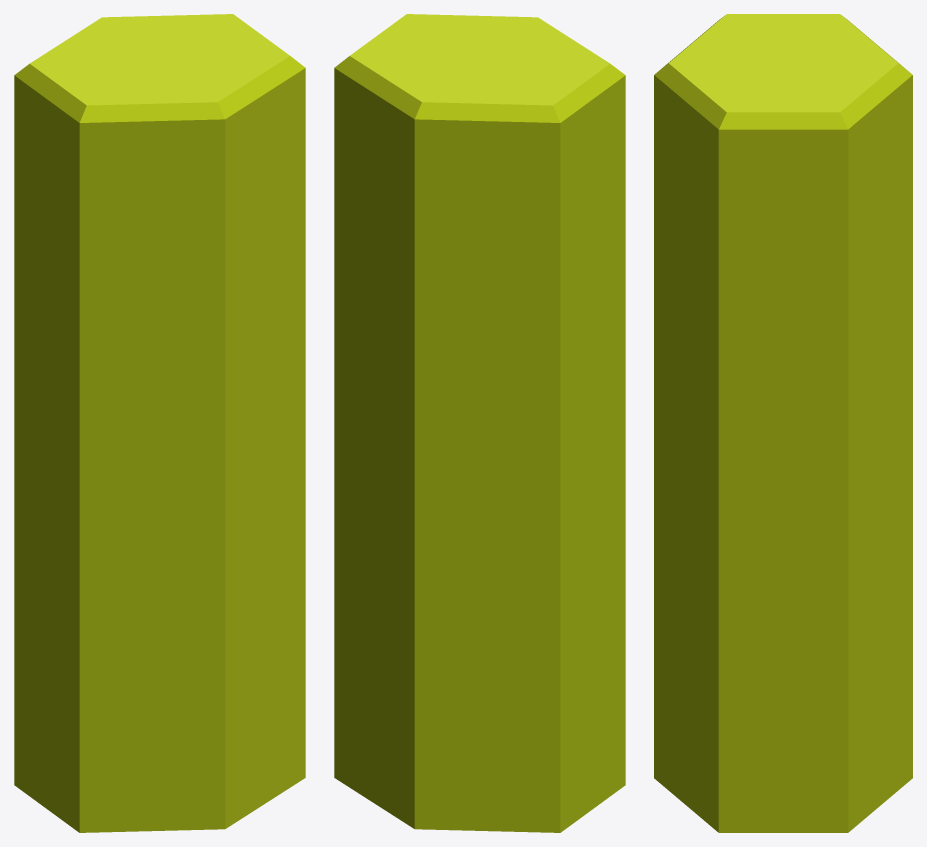
Rendered from Hexagon_Y.fbx.
The picture shows the model from 3 angles, left to right: view 1: azimuth 30°, elevation 25°; view 2: azimuth 150°, elevation 25°; view 3: azimuth 270°, elevation 25°; orthographic projection.
Parts seen in each view (by area): view 1: Hexagon_Y; view 2: Hexagon_Y; view 3: Hexagon_Y.
Boxes of the visible parts, left/top/right/bottom form: Hexagon_Y: left=14, top=14, right=305, bottom=832; Hexagon_Y: left=334, top=14, right=625, bottom=832; Hexagon_Y: left=654, top=14, right=912, bottom=832.
Bounding box in the file's own units: 100 × 305 × 100.
